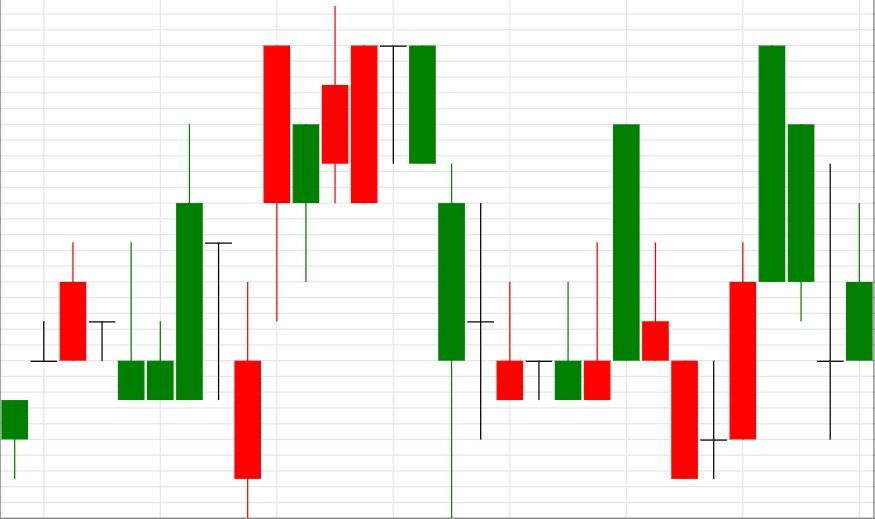evening_star_fall: (234, 6, 437, 518)
inverse_hammer_rise: (408, 46, 525, 440), (59, 241, 146, 400)
